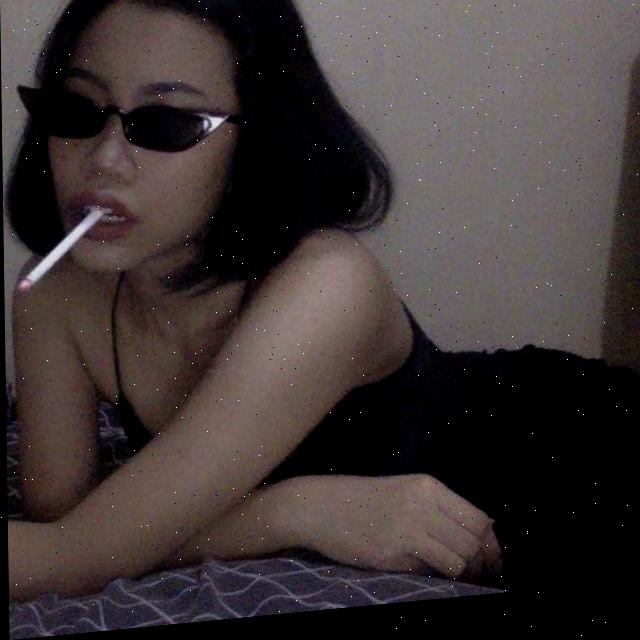cigarette: (15, 212, 103, 294)
